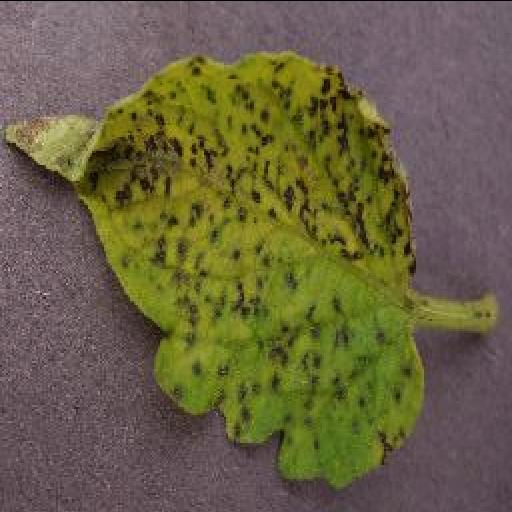disease_tomato: (9, 52, 427, 486)
